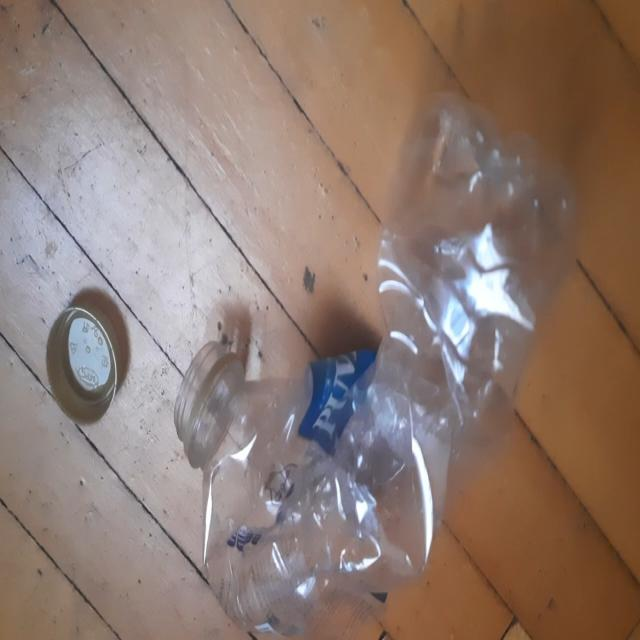Plastic: (175, 90, 577, 636)
